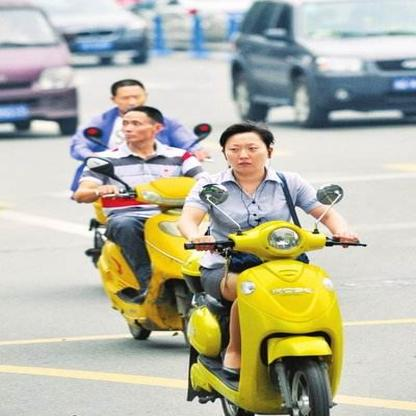target: (177, 121, 367, 416), (72, 106, 206, 342)
